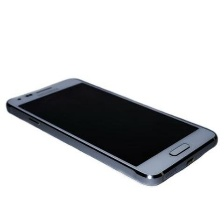phone: (4, 74, 220, 188)
